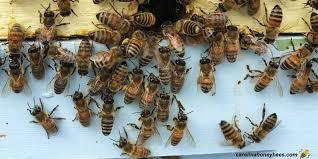worker-bee: (260, 1, 290, 48), (249, 111, 284, 145), (215, 116, 248, 150), (249, 58, 282, 92), (289, 57, 312, 99), (140, 69, 163, 111), (167, 108, 191, 148), (30, 105, 60, 137), (117, 134, 153, 159), (125, 65, 148, 104), (123, 26, 148, 61), (170, 55, 191, 96), (93, 12, 136, 32), (50, 60, 75, 93), (97, 96, 117, 137), (69, 91, 93, 125), (225, 25, 246, 63), (155, 42, 174, 84), (5, 22, 25, 61), (276, 47, 315, 67), (25, 46, 47, 81), (198, 53, 215, 97), (138, 105, 156, 143), (75, 38, 92, 73), (87, 32, 124, 46), (159, 92, 173, 124)
